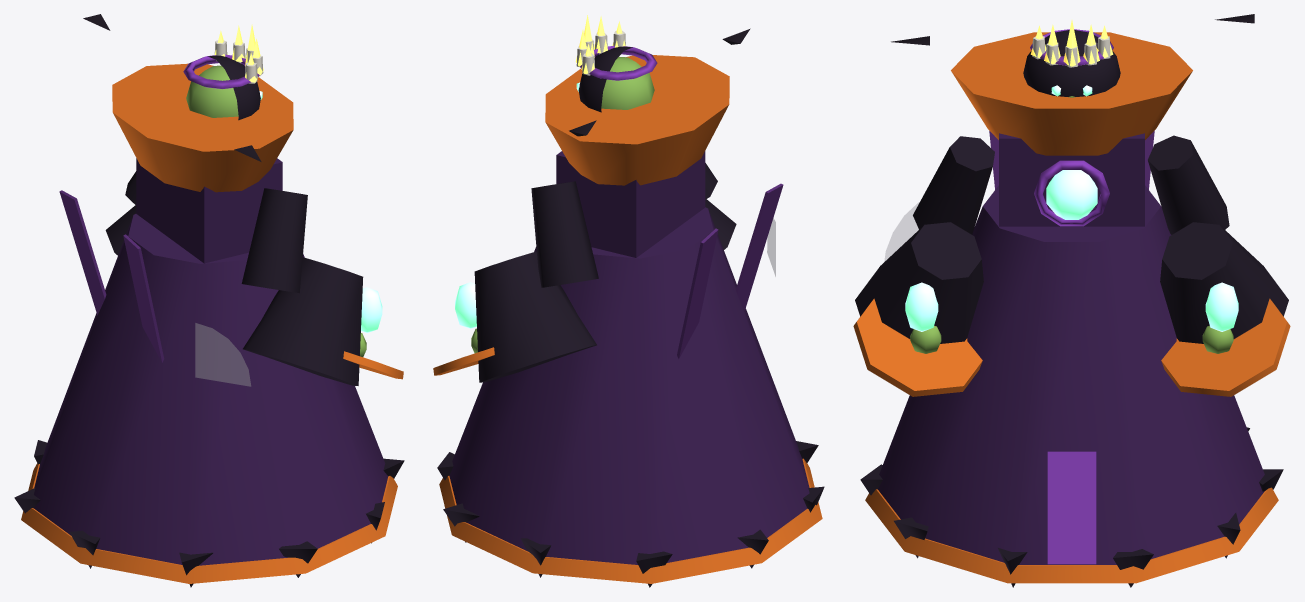
File: enemy_boss_summoner.glb
3 renders of one model, left to right at view 1: azimuth 30°, elevation 25°; view 2: azimuth 150°, elevation 25°; view 3: azimuth 270°, elevation 25°, orthographic. The views are drawn at different scales.
Visible parts, largest first — view 1: mantle, collar, arm_l_sleeve, torso, mantle_lining, arm_l_upper, deco_web, ribbon_r, head, ribbon_l, hood, crown_band (+5 smaller); view 2: mantle, collar, arm_r_sleeve, torso, mantle_lining, arm_r_upper, ribbon_l, head, ribbon_r, hood, crown_band, arm_r_soul (+4 smaller); view 3: mantle, collar, arm_l_sleeve, arm_r_sleeve, mantle_lining, torso, arm_l_sleeve_lining, arm_r_sleeve_lining, mantle_front, arm_r_upper, arm_l_upper, hood (+9 smaller).
Boxes of the visible parts, bbox=[...] form: mantle: bbox=[34, 214, 388, 565]; collar: bbox=[112, 63, 293, 192]; arm_l_sleeve: bbox=[243, 257, 363, 385]; torso: bbox=[136, 158, 282, 263]; mantle_lining: bbox=[21, 463, 397, 583]; arm_l_upper: bbox=[241, 188, 307, 293]; deco_web: bbox=[195, 323, 250, 386]; ribbon_r: bbox=[59, 190, 106, 315]; head: bbox=[186, 65, 238, 117]; ribbon_l: bbox=[123, 234, 164, 362]; hood: bbox=[208, 55, 260, 120]; crown_band: bbox=[183, 54, 259, 89]; mantle: bbox=[449, 207, 809, 564]; collar: bbox=[545, 55, 729, 185]; arm_r_sleeve: bbox=[474, 251, 596, 382]; torso: bbox=[556, 151, 705, 257]; mantle_lining: bbox=[439, 458, 822, 583]; arm_r_upper: bbox=[531, 181, 598, 287]; ribbon_l: bbox=[735, 183, 783, 310]; head: bbox=[601, 56, 654, 109]; ribbon_r: bbox=[677, 228, 718, 358]; hood: bbox=[578, 46, 632, 112]; crown_band: bbox=[580, 45, 657, 80]; arm_r_soul: bbox=[455, 282, 476, 328]; mantle: bbox=[877, 185, 1264, 564]; collar: bbox=[951, 32, 1192, 155]; arm_l_sleeve: bbox=[855, 222, 983, 343]; arm_r_sleeve: bbox=[1160, 222, 1288, 343]; mantle_lining: bbox=[865, 487, 1278, 583]; torso: bbox=[999, 133, 1144, 226]; arm_l_sleeve_lining: bbox=[853, 298, 982, 396]; arm_r_sleeve_lining: bbox=[1161, 298, 1290, 396]; mantle_front: bbox=[1047, 451, 1096, 564]; arm_r_upper: bbox=[1148, 135, 1229, 234]; arm_l_upper: bbox=[913, 136, 994, 234]; hood: bbox=[1023, 30, 1120, 96].
Size of the model in its own units: 0.5057 by 0.705 by 0.5388.
